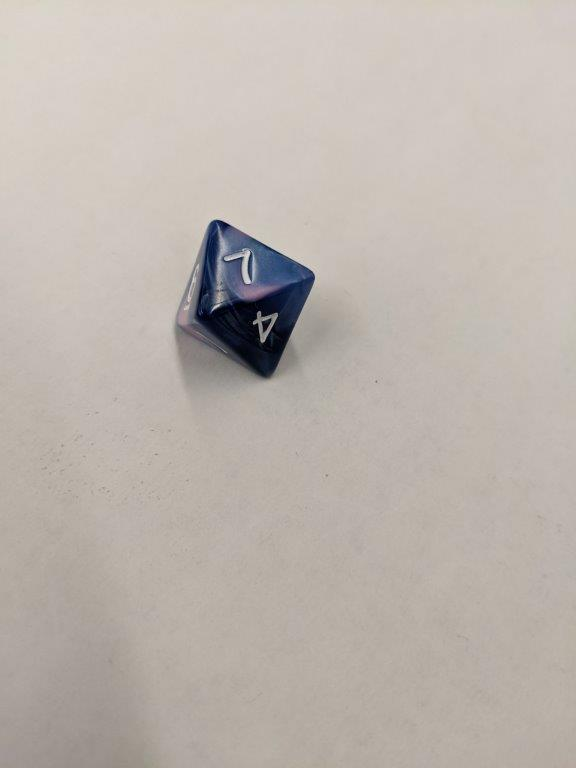d8-7: (172, 219, 318, 378)
